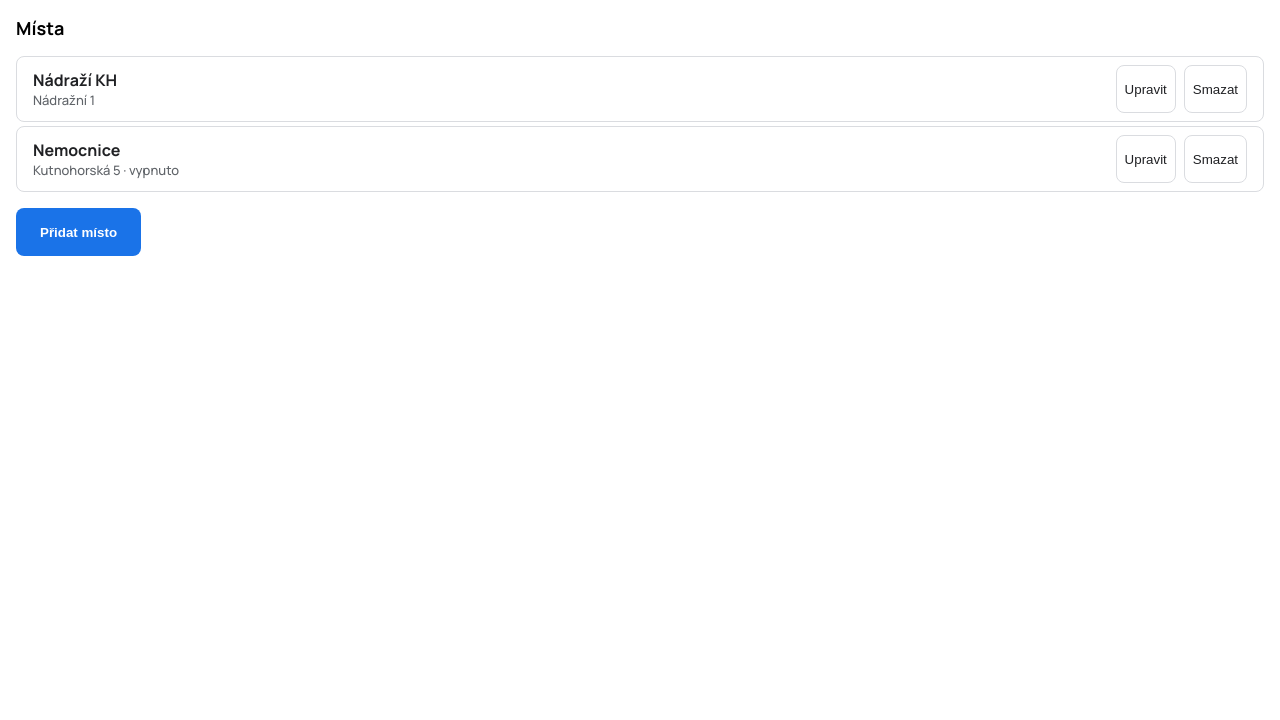
it: PlacesTab › blocks save without a dropped pin (coords required)
The width and height of the screenshot is (1280, 720).
Expected: the text "Nádraží KH" is shown, top-left (33, 69), bottom-right (117, 91)
Click the button "Přidat místo" at x=78, y=232, box top-left (16, 208), bottom-right (141, 256)
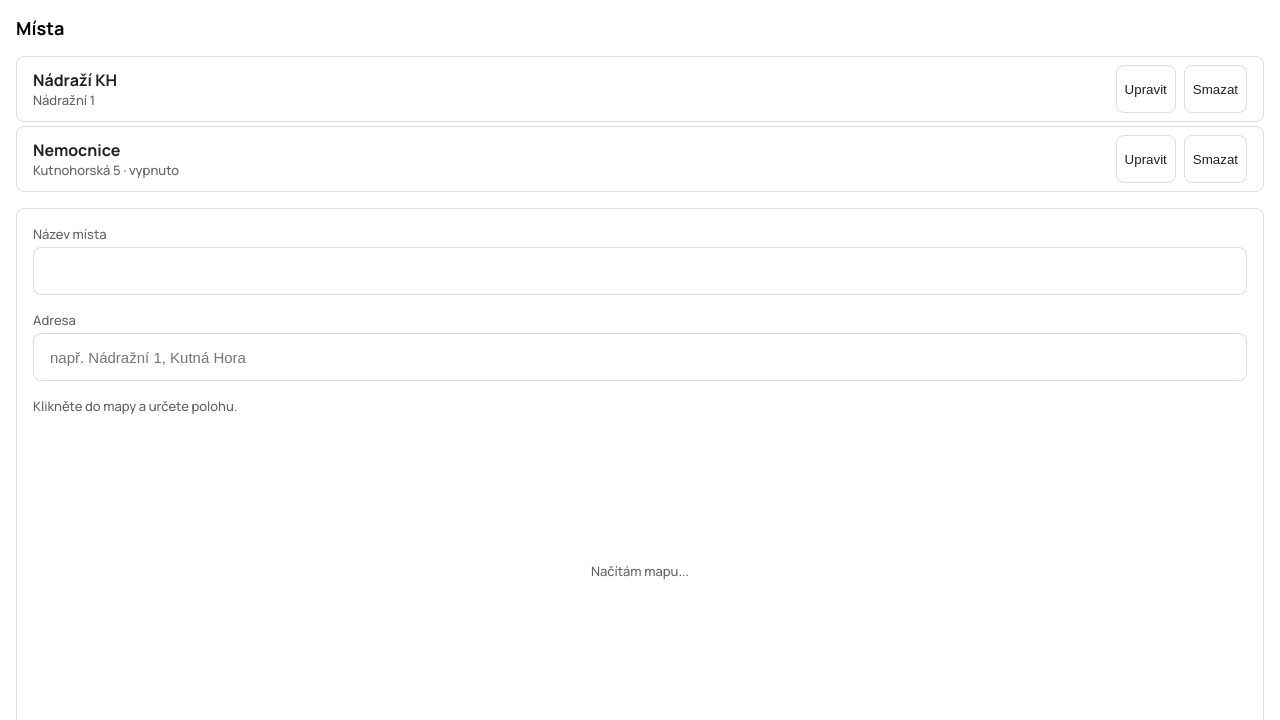
Type "Pošta" into the field labelled "Název místa" at x=640, y=271, box top-left (33, 247), bottom-right (1247, 295)
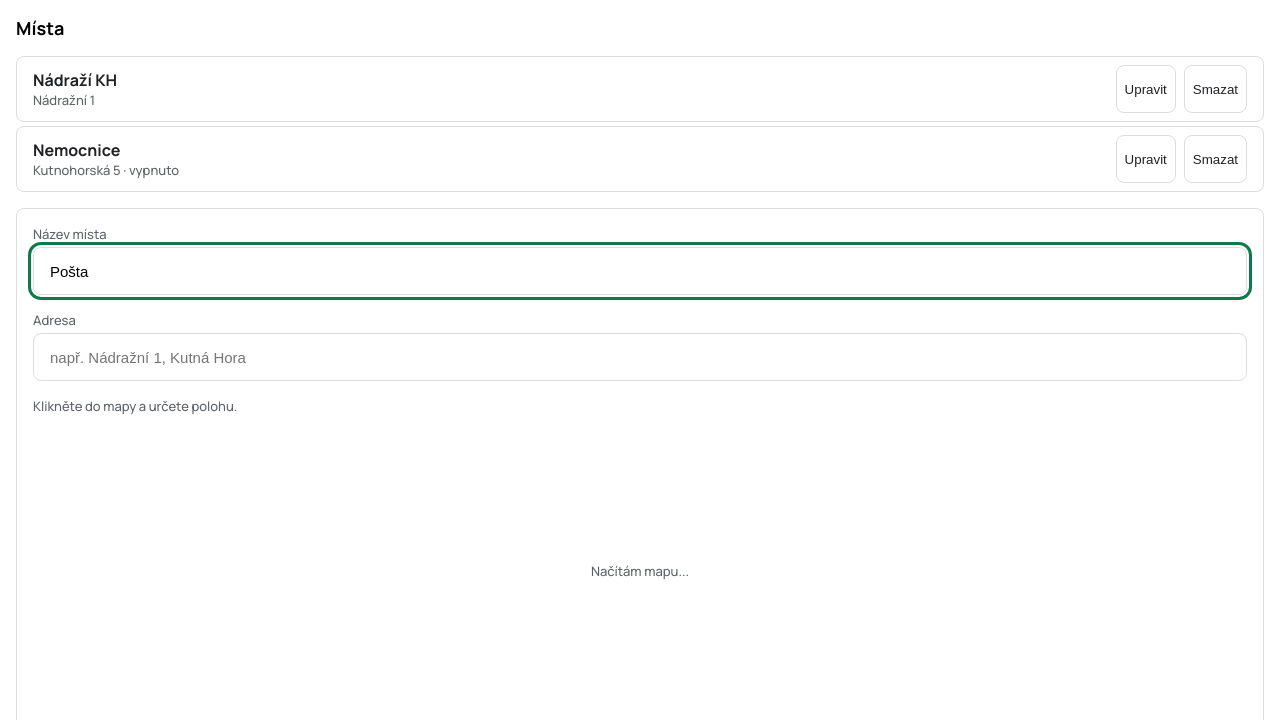
Type "Husova 10" into the field labelled "Adresa" at x=640, y=357, box top-left (33, 333), bottom-right (1247, 381)
(page scrolled)
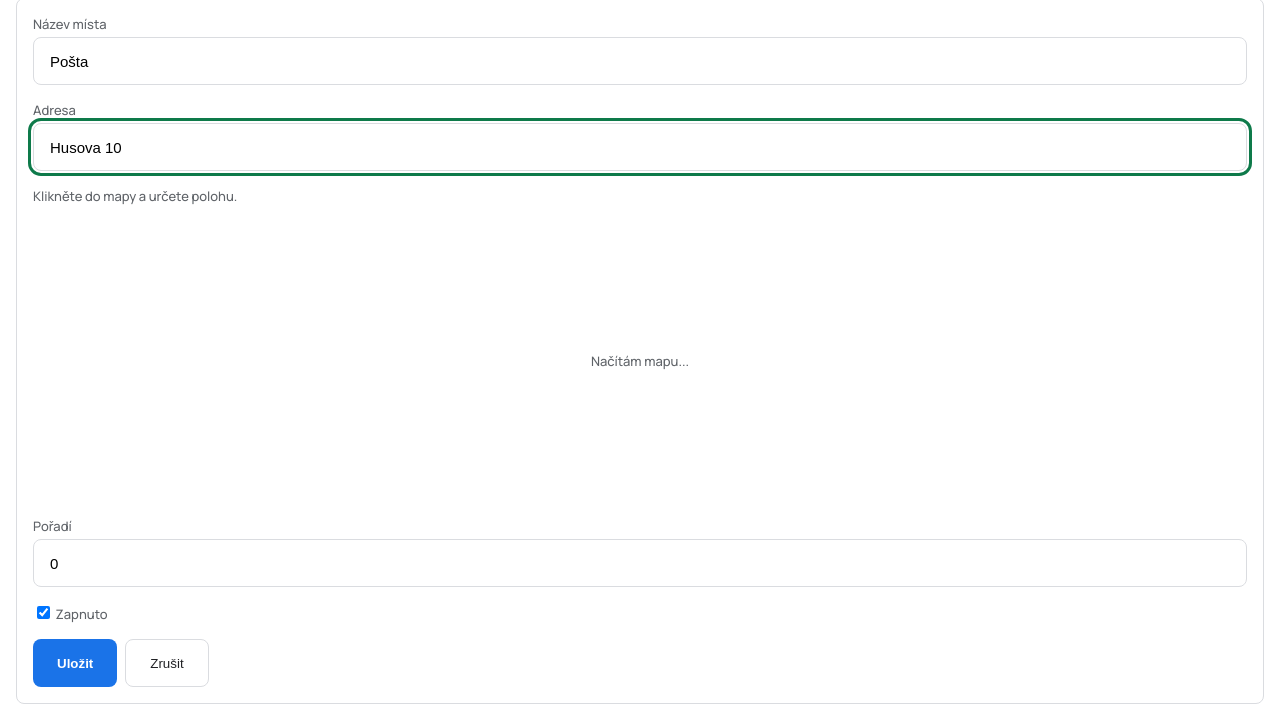
Click the button "Uložit" at x=75, y=663, box top-left (33, 639), bottom-right (117, 687)
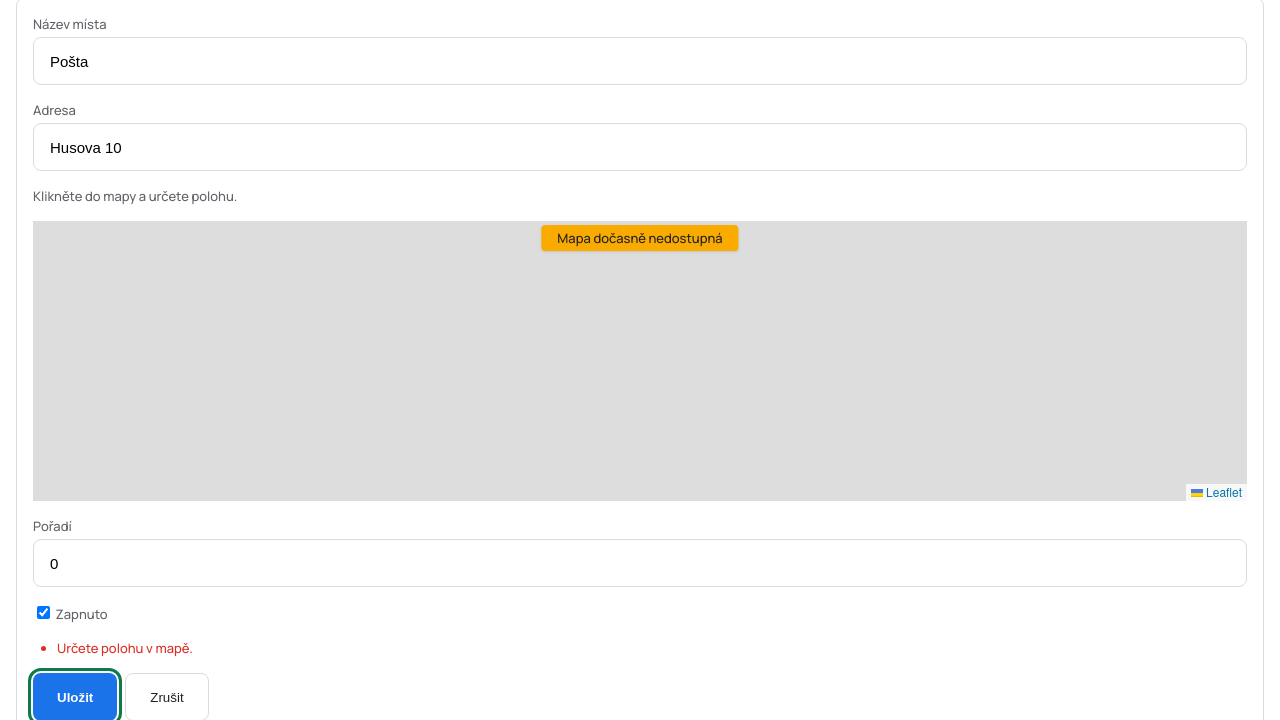
Expected: the message "Určete polohu v mapě." is shown, top-left (57, 639), bottom-right (193, 657)
